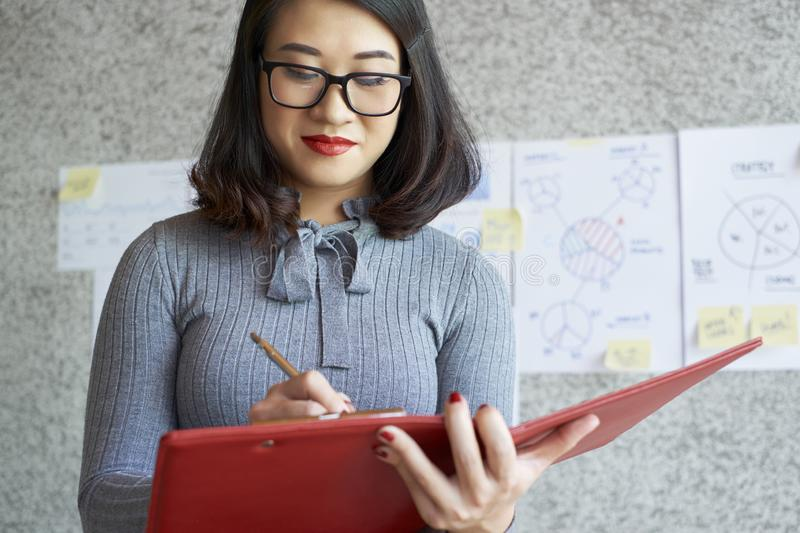red folder: (144, 332, 774, 533)
